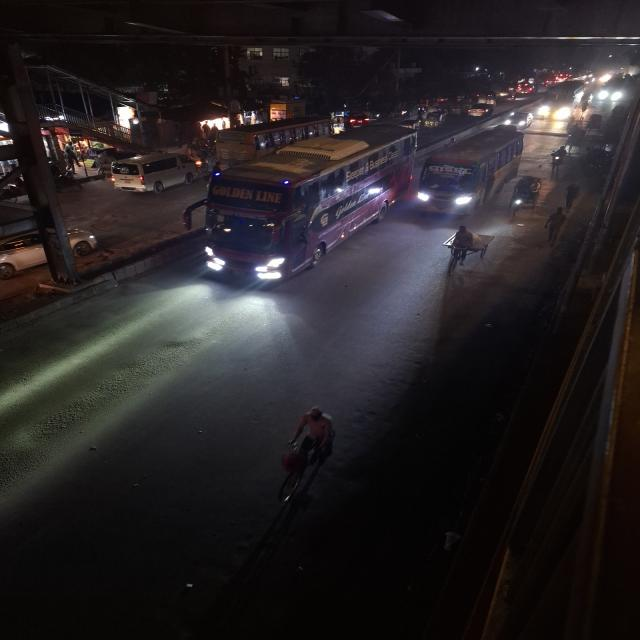bicycle: (274, 402, 338, 510)
bus: (195, 121, 413, 291), (420, 128, 526, 214), (542, 86, 578, 120)
car: (0, 221, 99, 280), (104, 149, 195, 192), (506, 109, 536, 130)
cng: (426, 112, 446, 130)
motorcycle: (548, 144, 571, 173)
pedestrian: (546, 205, 569, 244), (563, 180, 581, 214)
rickshaw: (440, 223, 497, 274), (509, 175, 544, 220), (562, 126, 588, 152), (585, 115, 603, 131)
